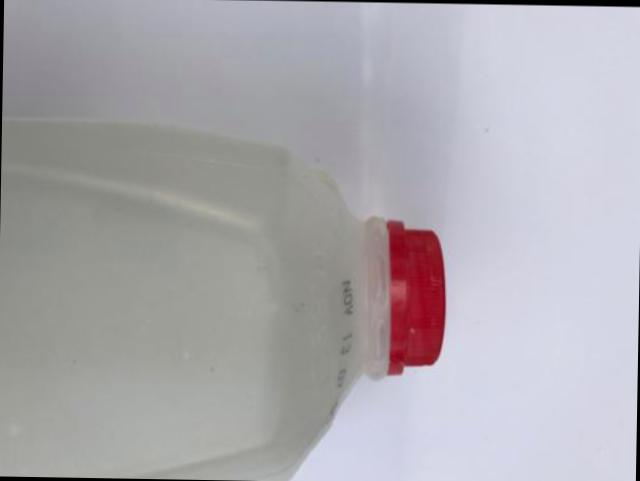plastic: (0, 121, 446, 480)
